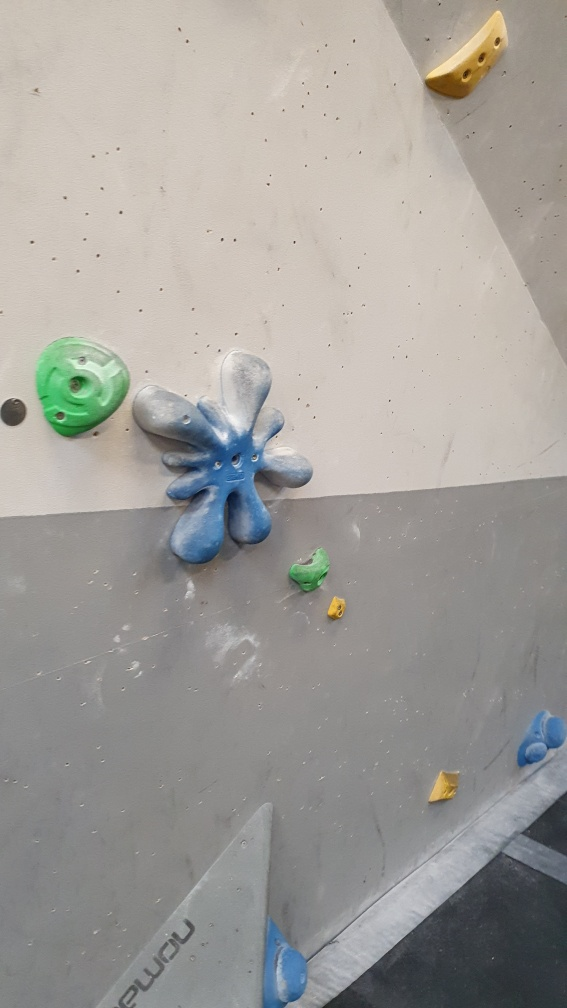Hand Start: (2, 394, 29, 426)
Jug: (38, 332, 135, 444), (288, 547, 332, 592)
Octopus Pinch: (131, 343, 320, 573)
Sloper: (262, 924, 310, 1006), (512, 704, 564, 777)
